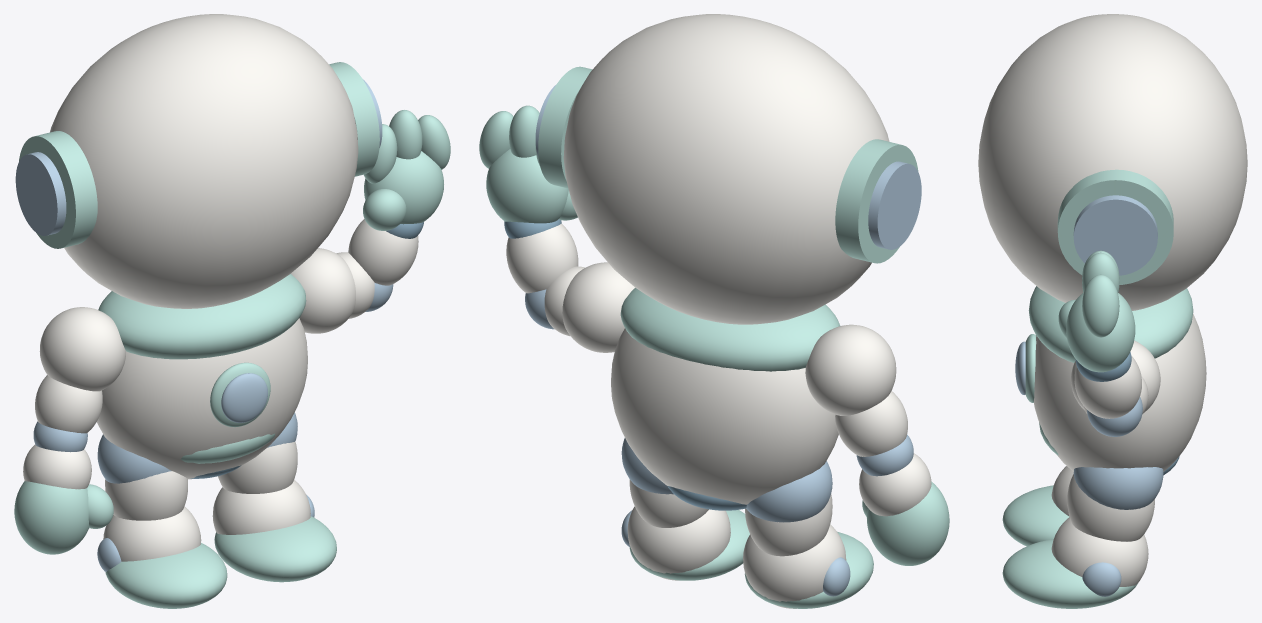
File: faceless_kids_robot.glb
The picture shows the model from 3 angles, left to right: view 1: azimuth 30°, elevation 25°; view 2: azimuth 150°, elevation 25°; view 3: azimuth 270°, elevation 25°; orthographic projection. The views are drawn at different scales.
Visible parts, largest first — view 1: Oversized blank ivory head, Soft ivory torso, Mint upper chest bib, Left shoulder cap, right giant mint boot toe, left giant mint boot toe, Left mint mitten palm, left mint ear housing, Right shoulder cap, right lower leg boot, left lower leg boot, left blue ear insert (+18 smaller); view 2: Oversized blank ivory head, Soft ivory torso, Mint upper chest bib, Left shoulder cap, left mint ear housing, right lower leg boot, Right shoulder cap, left lower leg boot, Right mint waving palm, Left mint mitten palm, left blue ear insert, Right raised forearm (+17 smaller); view 3: Oversized blank ivory head, Soft ivory torso, right mint ear housing, right blue ear insert, Mint upper chest bib, right giant mint boot toe, right lower leg boot, Right mint waving palm, right hip joint, right thigh shell, left giant mint boot toe, Right raised forearm (+9 smaller).
Boxes of the visible parts, x1,y1,x2,y2 form: Oversized blank ivory head: (50,14,358,308); Soft ivory torso: (97,318,307,479); Mint upper chest bib: (98,274,306,359); Left shoulder cap: (39,307,125,391); right giant mint boot toe: (214,516,336,582); left giant mint boot toe: (105,543,227,608); Left mint mitten palm: (14,481,88,554); left mint ear housing: (19,131,97,248); Right shoulder cap: (291,248,355,333); right lower leg boot: (212,480,310,534); left lower leg boot: (103,506,201,561); left blue ear insert: (15,152,66,235); Oversized blank ivory head: (563,14,889,324); Soft ivory torso: (611,328,838,504); Mint upper chest bib: (620,288,840,371); Left shoulder cap: (805,324,896,415); left mint ear housing: (835,139,918,263); right lower leg boot: (627,506,730,580); Right shoulder cap: (562,262,634,352); left lower leg boot: (743,524,846,608); Right mint waving palm: (486,149,568,223); Left mint mitten palm: (867,481,949,565); left blue ear insert: (868,161,921,249); Right raised forearm: (506,223,578,293); Oversized blank ivory head: (978,14,1247,310); Soft ivory torso: (1034,313,1206,471); right mint ear housing: (1057,169,1173,284); right blue ear insert: (1073,195,1157,275); Mint upper chest bib: (1028,286,1193,362); right giant mint boot toe: (1002,539,1137,608); right lower leg boot: (1051,517,1148,586); Right mint waving palm: (1066,293,1135,372); right hip joint: (1073,467,1163,509); right thigh shell: (1067,474,1154,541); left giant mint boot toe: (1002,485,1069,546); Right raised forearm: (1074,356,1141,418).
Bounding box in the file's own units: 2.69 × 3.2 × 1.44.
